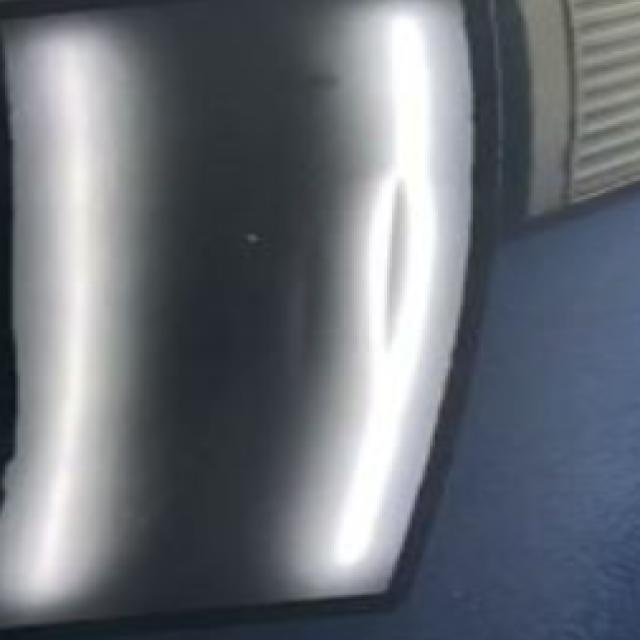dents: (341, 169, 468, 364)
